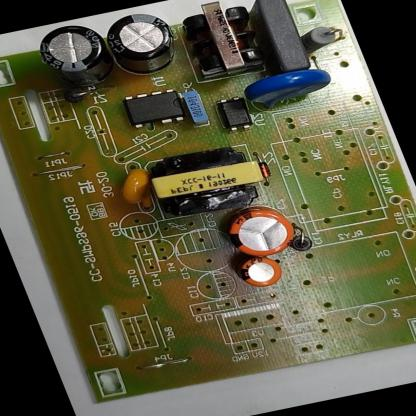Cap1: (213, 197, 306, 264)
Cap2: (224, 249, 294, 297)
Cap3: (93, 4, 191, 83)
Cap4: (25, 17, 121, 97)
MOSFET: (108, 79, 199, 135)
Mov: (233, 60, 346, 118)
Resistor: (292, 20, 353, 58)
Transformer: (130, 136, 275, 226), (168, 0, 275, 84)
